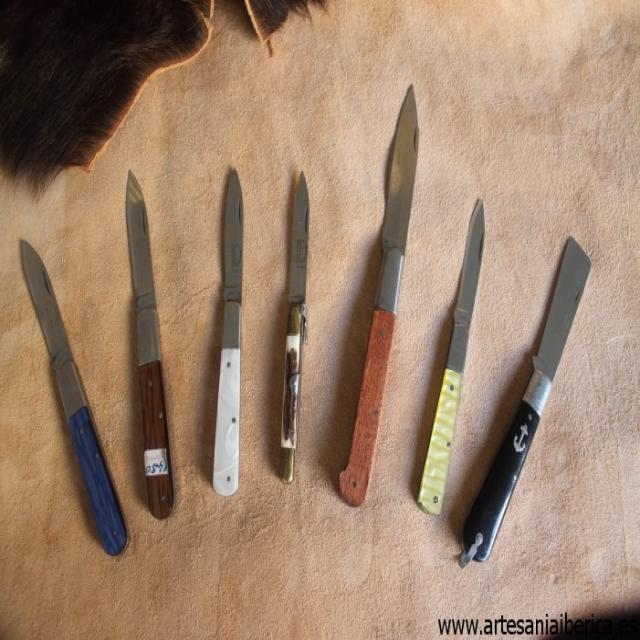knife: (335, 79, 420, 522), (19, 232, 129, 560), (423, 188, 488, 520), (126, 168, 180, 521), (278, 168, 315, 495), (214, 167, 248, 502)
